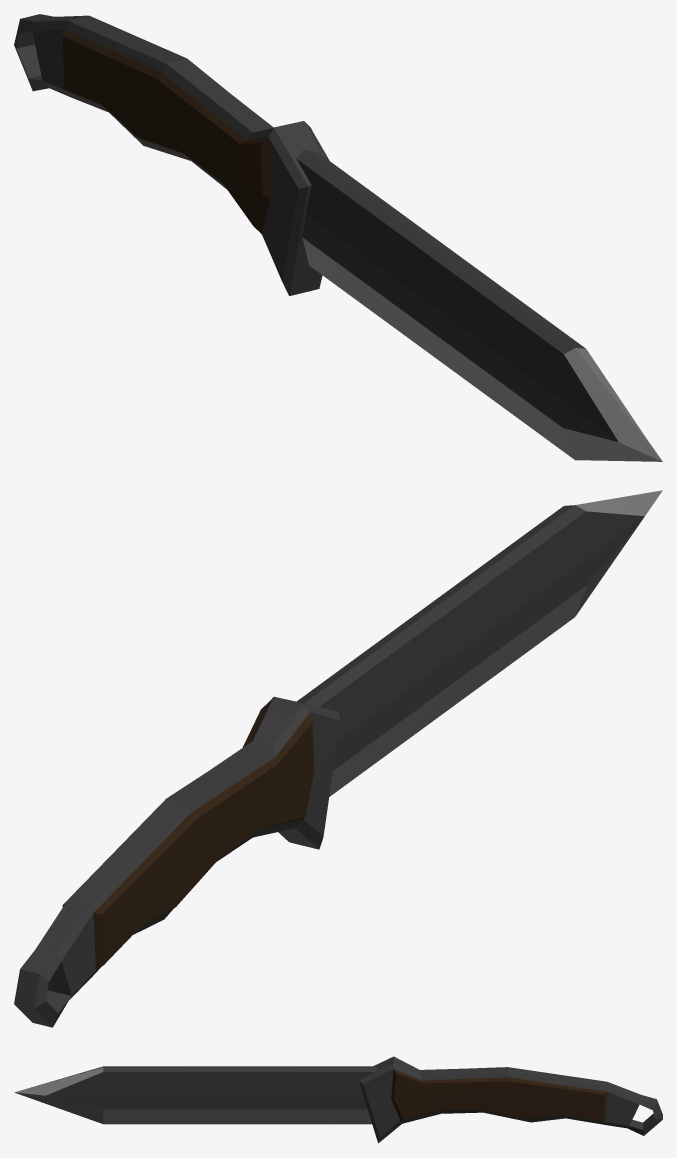
The model's file is Knife.fbx.
3 renders of one model, top to bottom at view 1: azimuth 30°, elevation 25°; view 2: azimuth 150°, elevation 25°; view 3: azimuth 270°, elevation 25°, orthographic. The views are drawn at different scales.
Parts seen in each view (by area): view 1: Knife; view 2: Knife; view 3: Knife.
Part boxes in pixels (x1,y1,x2,y2): Knife: [14, 14, 662, 461]; Knife: [14, 490, 662, 1027]; Knife: [14, 1056, 662, 1143].
Bounding box in the file's own units: 1.57 × 4.57 × 33.71.
Materials: 1 (1 with a texture image).
